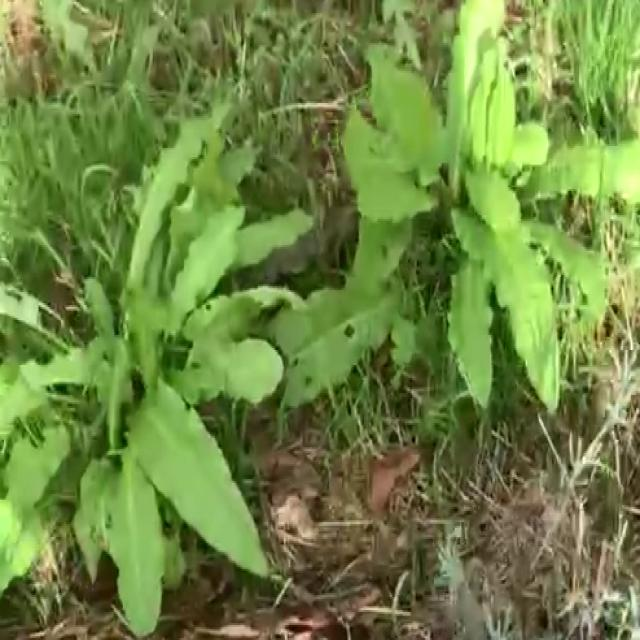organic waste: (0, 112, 338, 640), (291, 4, 640, 456)
